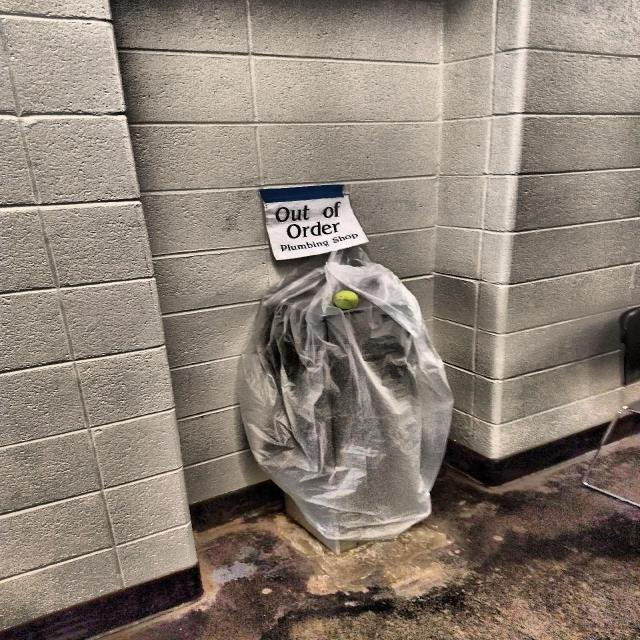tennis-ball: (333, 288, 361, 314)
